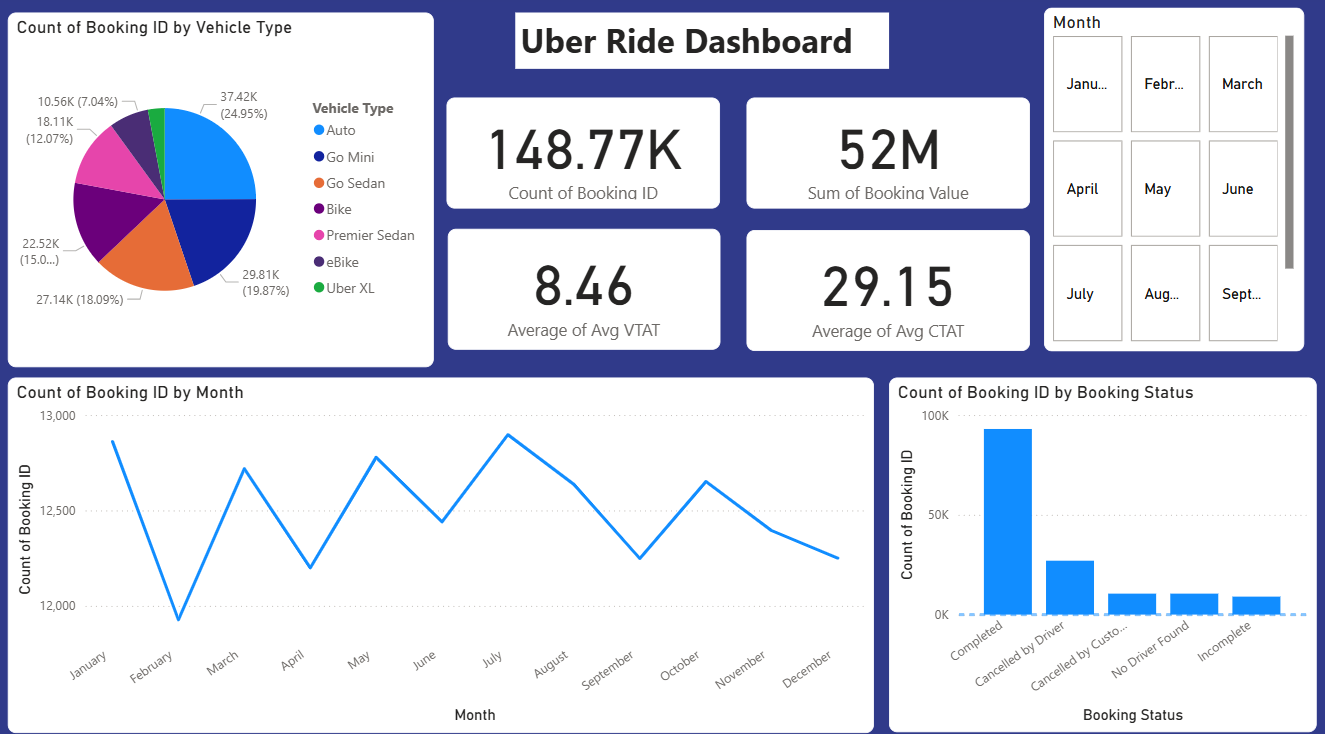

What the dashboard file says about the page in this screenshot:
{"tool":"powerbi","page":{"name":"Page 1","canvas":[1280,720],"ordinal":0},"visuals":[{"type":"pieChart","fields":{"Y":["CountNonNull(group3_dataset.Booking ID)"],"Category":["group3_dataset.Vehicle Type"]},"box":[8.4,16.9,411.4,342.6],"z":0},{"type":"columnChart","fields":{"Category":["group3_dataset.Booking Status"],"Y":["CountNonNull(group3_dataset.Booking ID)"]},"box":[859,369.2,412.6,342.6],"z":1000},{"type":"card","fields":{"Values":["Count(group3_dataset.Booking ID)"]},"box":[431.9,98.9,264.2,107.4],"z":2000},{"type":"advancedSlicerVisual","fields":{"Values":["group3_dataset.Date.Variation.Date Hierarchy.Month"]},"box":[1008.6,12.1,250.9,331.8],"z":3000},{"type":"lineChart","fields":{"Y":["CountNonNull(group3_dataset.Booking ID)"],"Category":["group3_dataset.Date.Variation.Date Hierarchy.Month"]},"box":[8.2,369.1,835.7,343.1],"z":4000},{"type":"card","fields":{"Values":["Sum(group3_dataset.Booking Value)"]},"box":[721.5,98.9,273.9,107.4],"z":5000},{"type":"card","fields":{"Values":["Avg(group3_dataset.Avg CTAT)"]},"box":[721.5,226.8,273.9,117],"z":7000},{"type":"card","fields":{"Values":["Avg(group3_dataset.Avg VTAT)"]},"box":[433.1,225.6,263,117],"z":8000},{"type":"textbox","box":[498.3,16.9,360.7,54.3],"z":8001}]}

Visuals, with their boxes in screenshot pixels (x1, y1, x2, y2), scaled from the page's 1280x720 canvas onto the 1325x734 screenshot:
pieChart - CountNonNull(group3_dataset.Booking ID) x group3_dataset.Vehicle Type: <box>9,17,435,366</box>
columnChart - group3_dataset.Booking Status x CountNonNull(group3_dataset.Booking ID): <box>889,376,1316,726</box>
card - Count(group3_dataset.Booking ID): <box>447,101,721,210</box>
advancedSlicerVisual - group3_dataset.Date.Variation.Date Hierarchy.Month: <box>1044,12,1304,351</box>
lineChart - CountNonNull(group3_dataset.Booking ID) x group3_dataset.Date.Variation.Date Hierarchy.Month: <box>8,376,874,726</box>
card - Sum(group3_dataset.Booking Value): <box>747,101,1030,210</box>
card - Avg(group3_dataset.Avg CTAT): <box>747,231,1030,350</box>
card - Avg(group3_dataset.Avg VTAT): <box>448,230,721,349</box>
textbox: <box>516,17,889,73</box>
